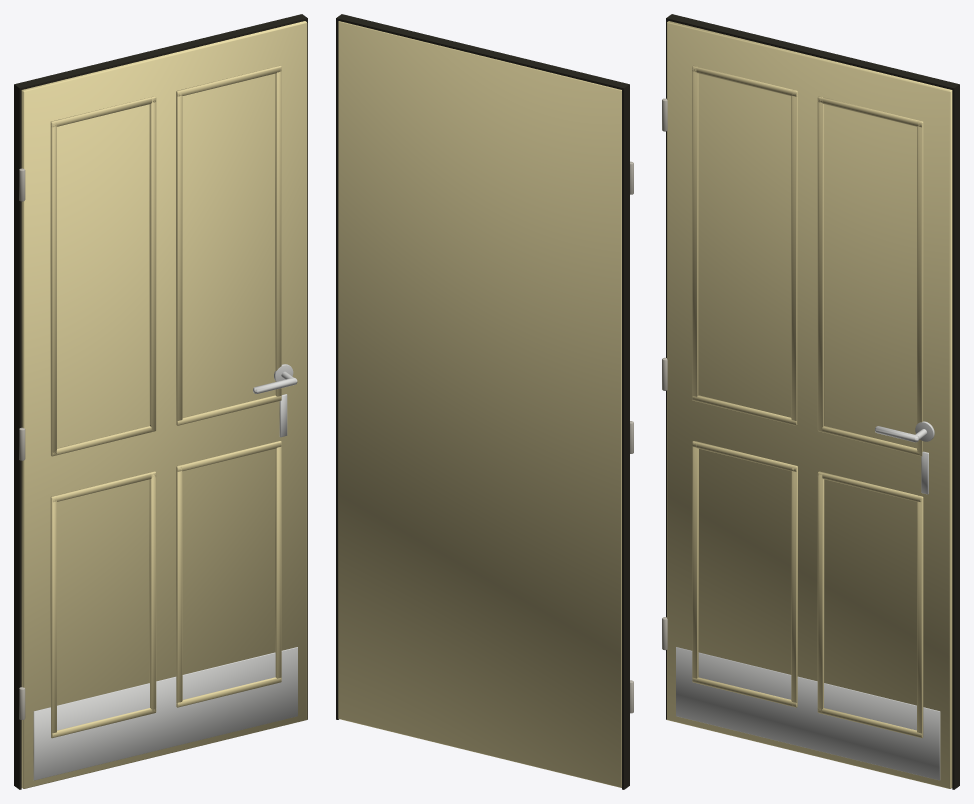
File: exit_door_handleless.glb
3 renders of one model, left to right at view 1: azimuth 30°, elevation 25°; view 2: azimuth 150°, elevation 25°; view 3: azimuth 330°, elevation 25°, orthographic.
Parts seen in each view (by area): view 1: leaf, seam, door_handle, hinges; view 2: leaf, seam; view 3: leaf, seam, door_handle, hinges.
Boxes of the visible parts, <box> form: leaf: <box>21,21,307,788</box>; seam: <box>14,14,307,789</box>; door_handle: <box>253,364,297,437</box>; hinges: <box>19,168,25,719</box>; leaf: <box>338,21,621,787</box>; seam: <box>336,14,629,789</box>; leaf: <box>667,21,952,788</box>; seam: <box>666,14,959,789</box>; door_handle: <box>875,421,934,494</box>; hinges: <box>662,98,667,650</box>.
Bounding box in the file's own units: 0.878 × 2.03 × 0.104.
